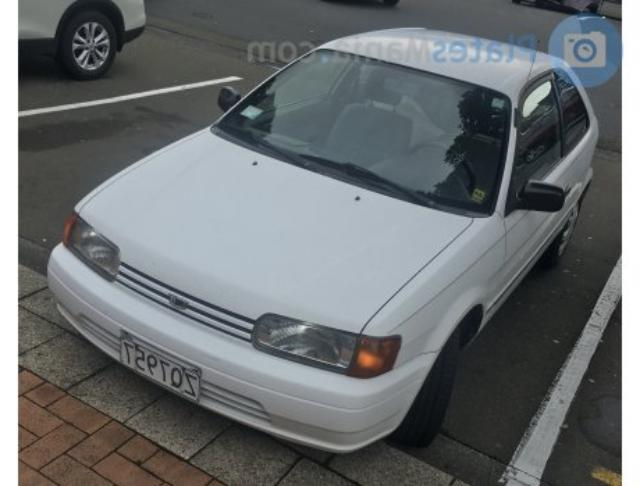Rego: (119, 336, 201, 403)
